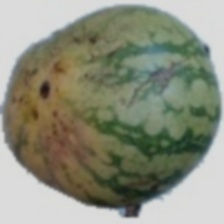watermelon: (40, 26, 224, 178)
